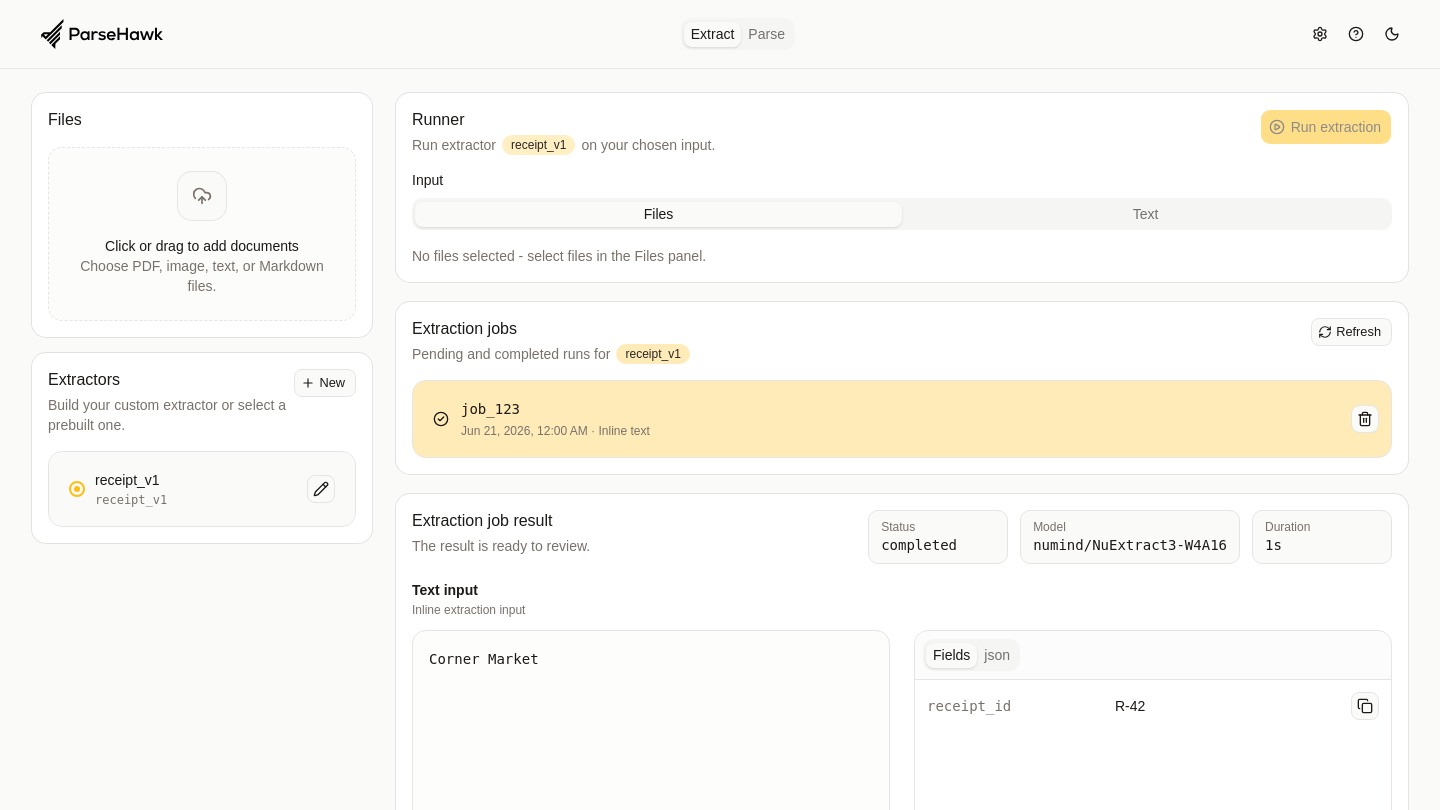
App run workflow › loads and deletes jobs from extractor history
Expected: the text "Extraction jobs" is shown, [412, 320, 517, 337]
Expected: the text "job_123" is shown, [461, 399, 520, 419]
Click the button named "Delete job job_123": (1365, 419) [1351, 405, 1379, 433]
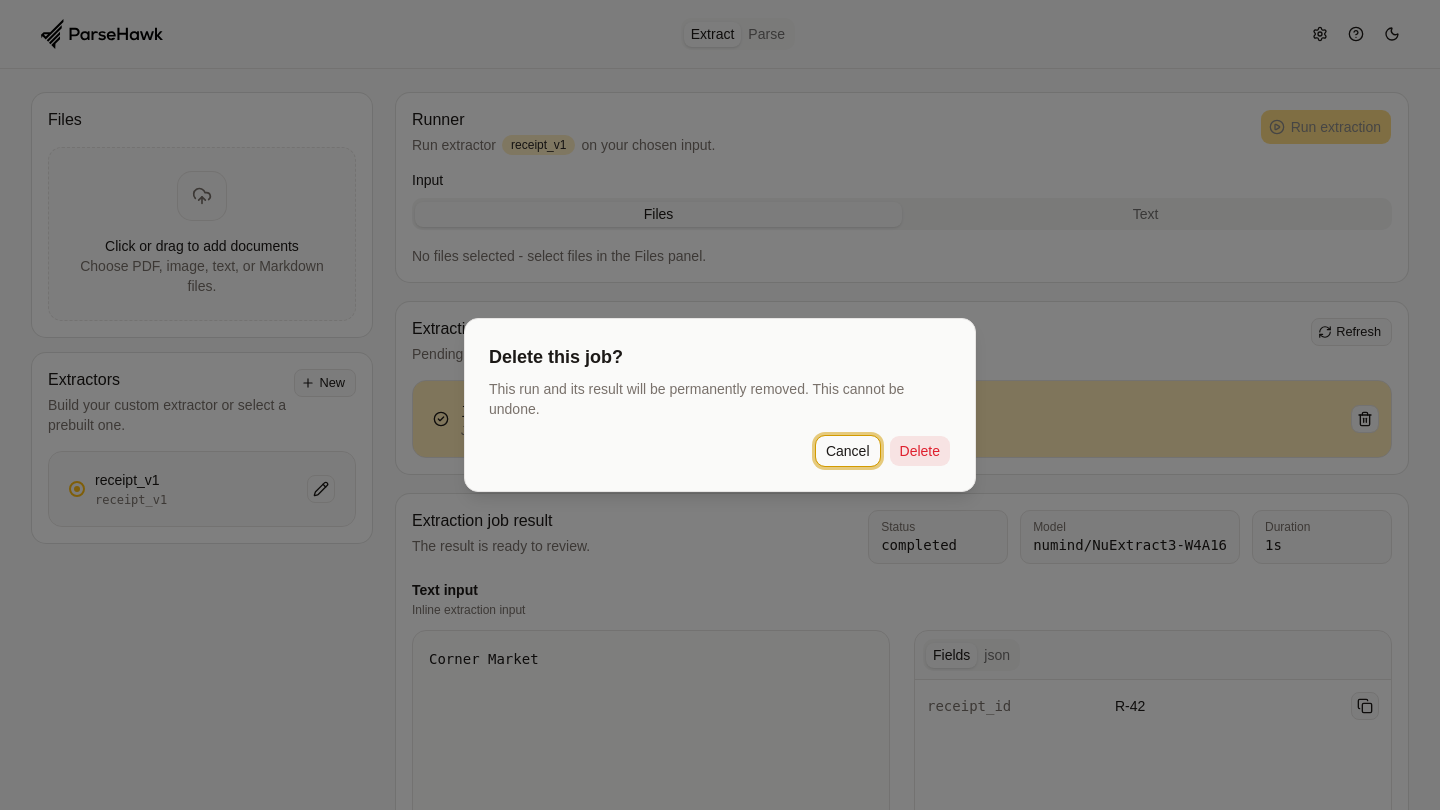
Click the button "Delete": (920, 451) [888, 435, 951, 467]
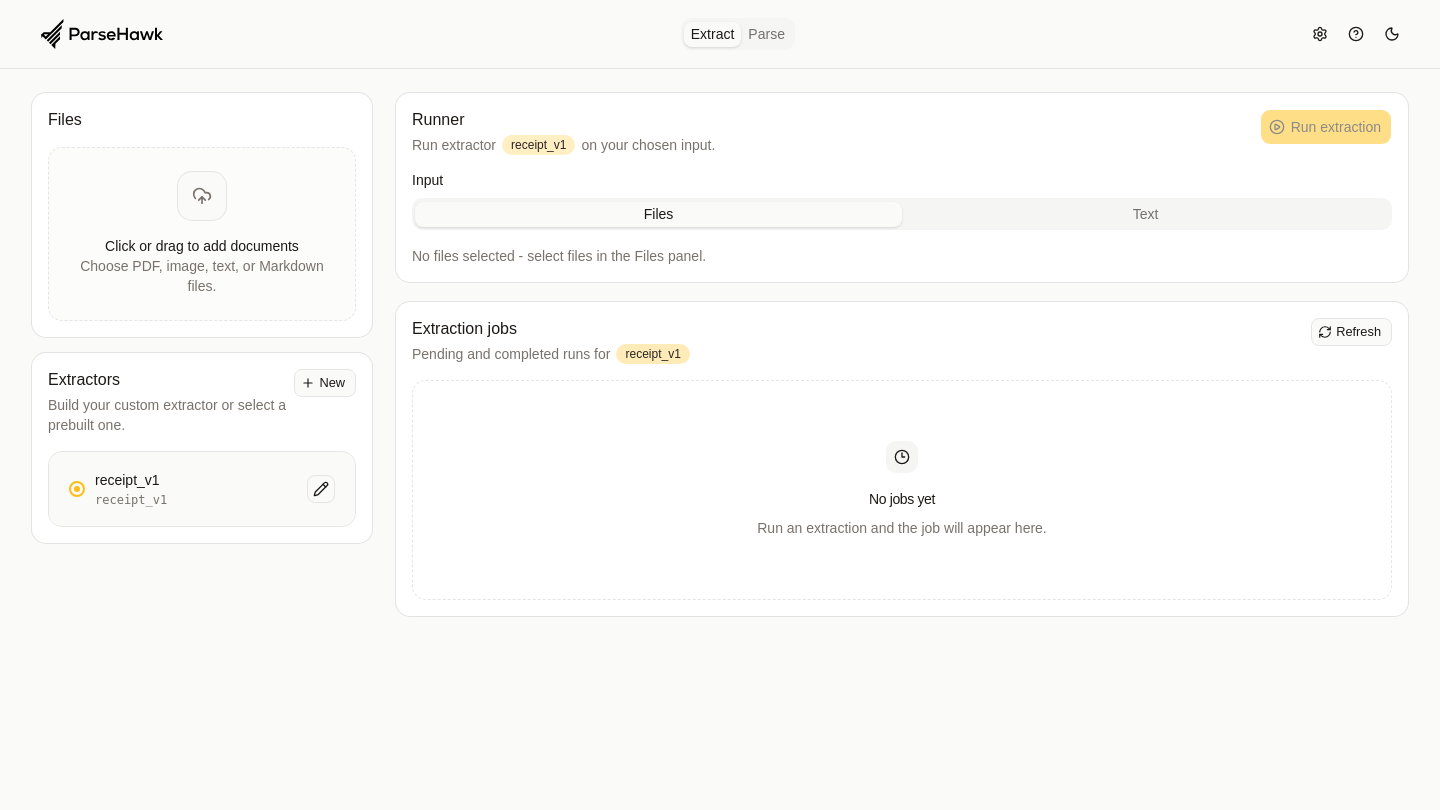
Expected: the button "job_123" is gone
